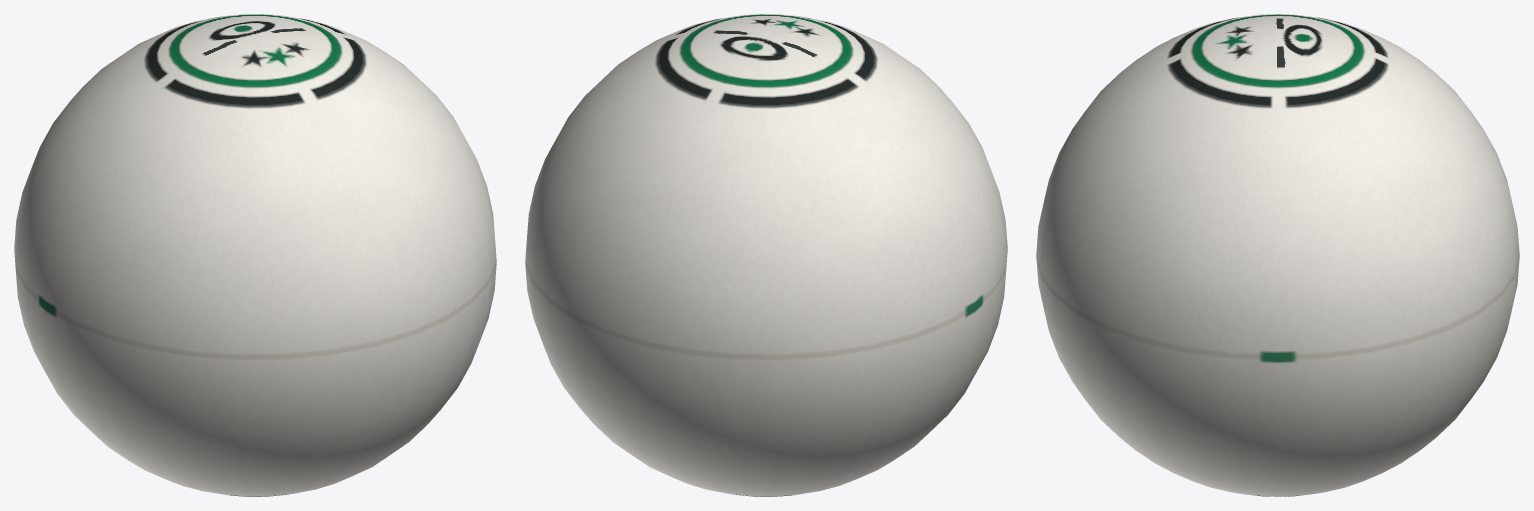
File: ball.glb
3 renders of one model, left to right at view 1: azimuth 30°, elevation 25°; view 2: azimuth 150°, elevation 25°; view 3: azimuth 270°, elevation 25°, orthographic.
Visible parts, largest first — view 1: BallSphere; view 2: BallSphere; view 3: BallSphere.
Part boxes in pixels (x1=…): BallSphere: x1=14, y1=14, x2=496, y2=496; BallSphere: x1=525, y1=14, x2=1007, y2=496; BallSphere: x1=1036, y1=14, x2=1519, y2=496.
Size of the model in its own units: 0.05 by 0.05 by 0.05.
Materials: 1 (1 with a texture image).
